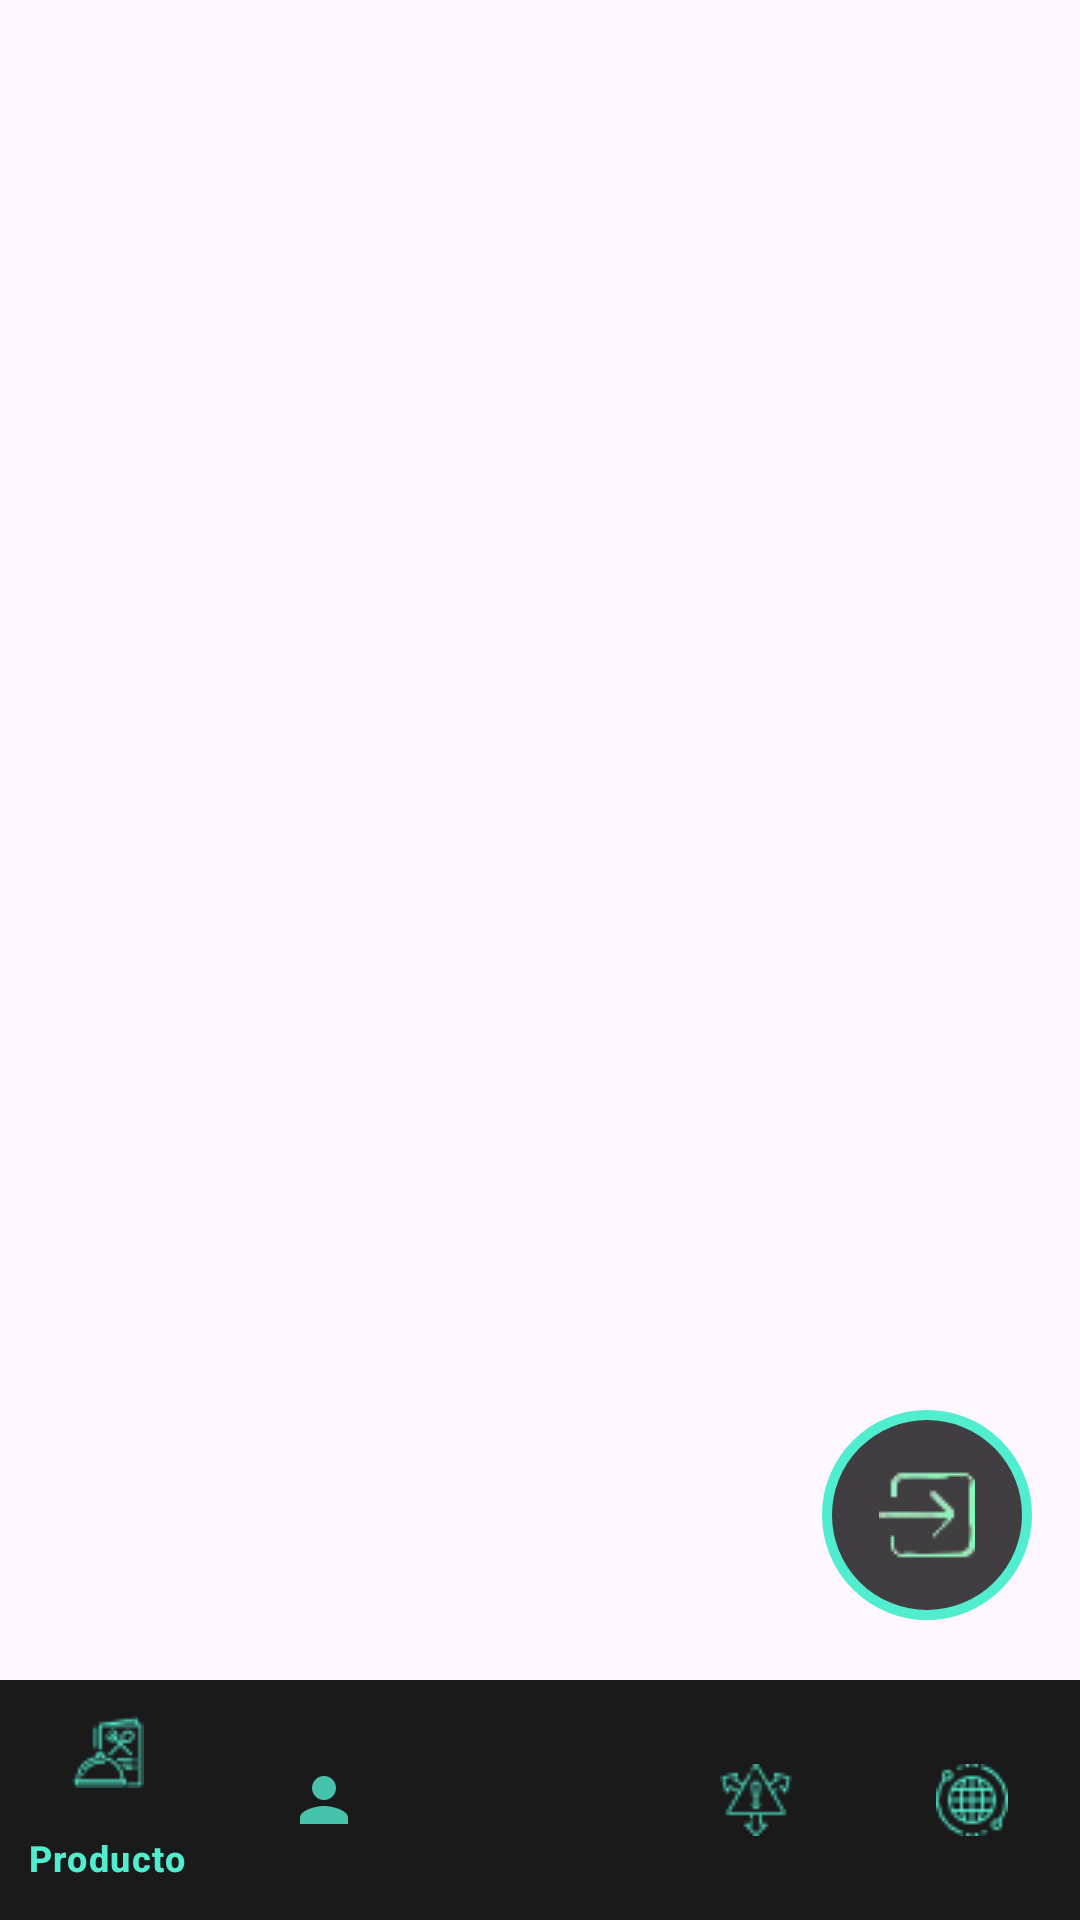

Icon bounding boxes for this 1080 x 1920 phone screenshot, format {"left": x1, "top": y1, "right": x2, "bottom": y2}:
botoncirculo: {"left": 822, "top": 1410, "right": 1032, "bottom": 1620}
